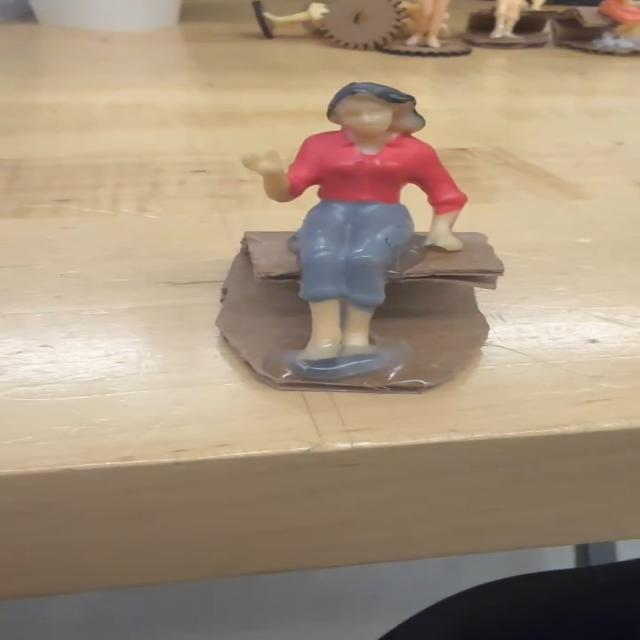Authorized: (234, 79, 465, 374)
